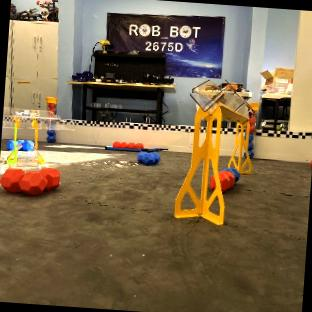Goal: (174, 80, 249, 222)
Med_goal: (2, 106, 74, 163)
Parking - B: (104, 145, 166, 151)
V5_BLUE: (137, 151, 159, 163), (17, 140, 33, 150), (227, 167, 238, 179), (247, 135, 253, 156), (47, 129, 54, 140)
V5_RED: (0, 167, 59, 194), (114, 142, 142, 147), (248, 117, 254, 132)
